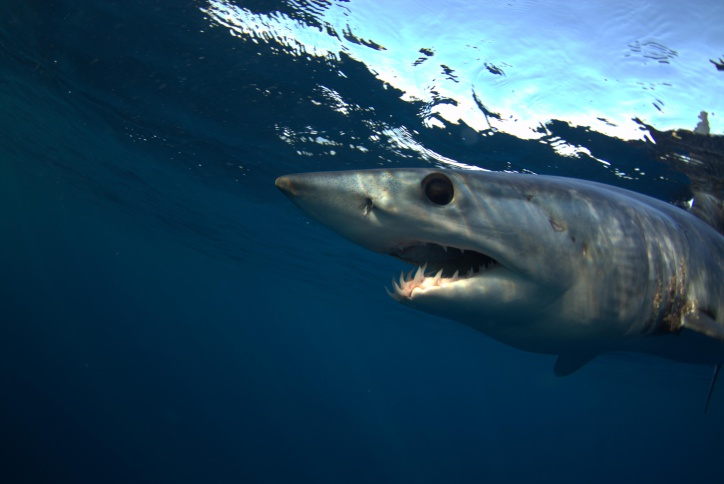Mako: (241, 138, 724, 416)
